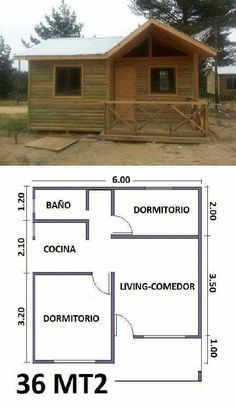door: (114, 309, 141, 343), (108, 218, 138, 237), (92, 273, 111, 291)
room: (35, 185, 209, 243), (116, 229, 201, 342), (29, 272, 116, 369)
window: (56, 356, 97, 367), (142, 333, 187, 342)
